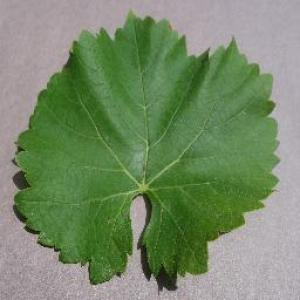Folha: (11, 8, 281, 292)
